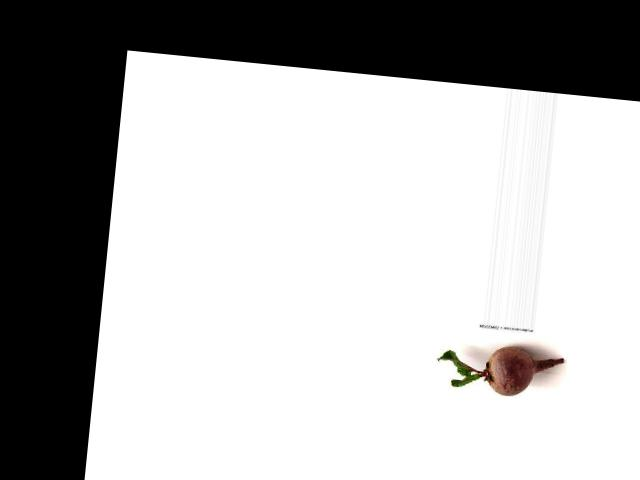beet: (434, 339, 563, 400)
